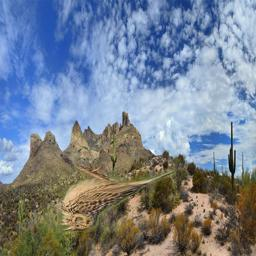Sparrow: (58, 164, 176, 232)
